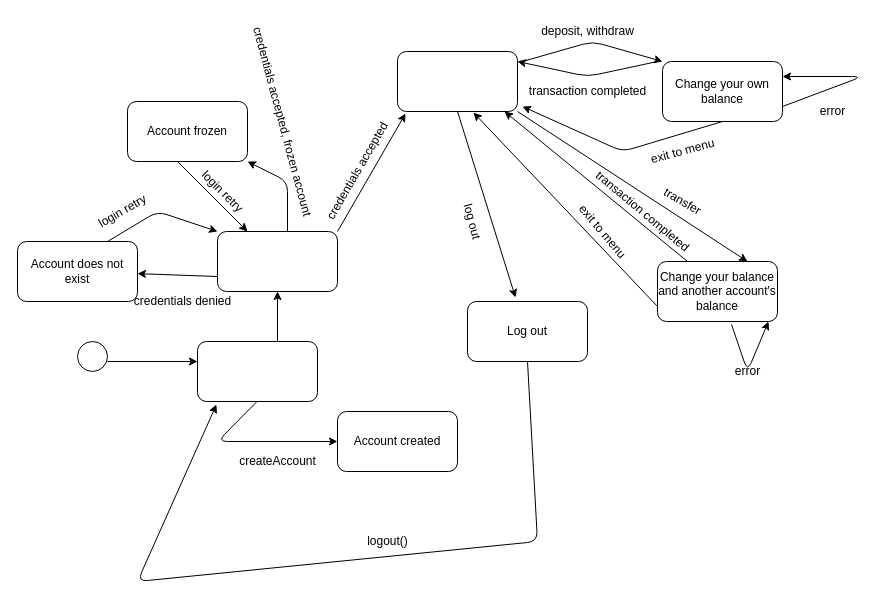
Image size: 888x607. Some labels were removed from this diagram. Each missing label, with the centre of its shape:
"Login" goes at point 277,261.
"Login/Create Account" goes at point 257,371.
"Menu" goes at point 457,81.
